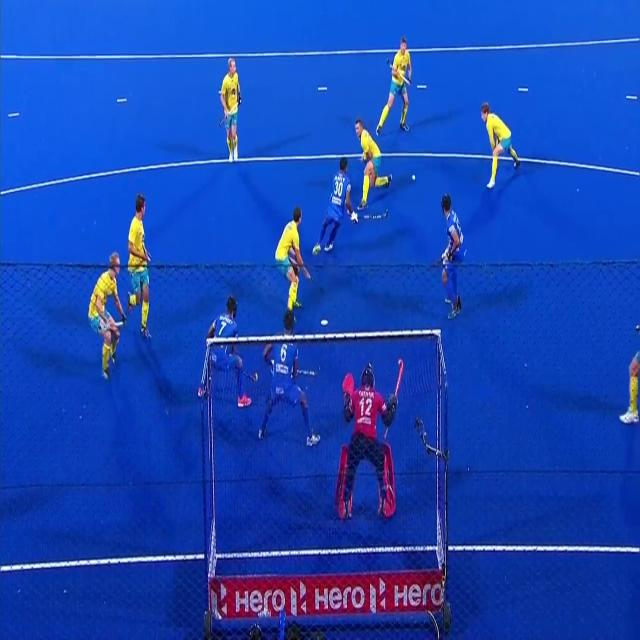ball: (410, 171, 417, 182)
